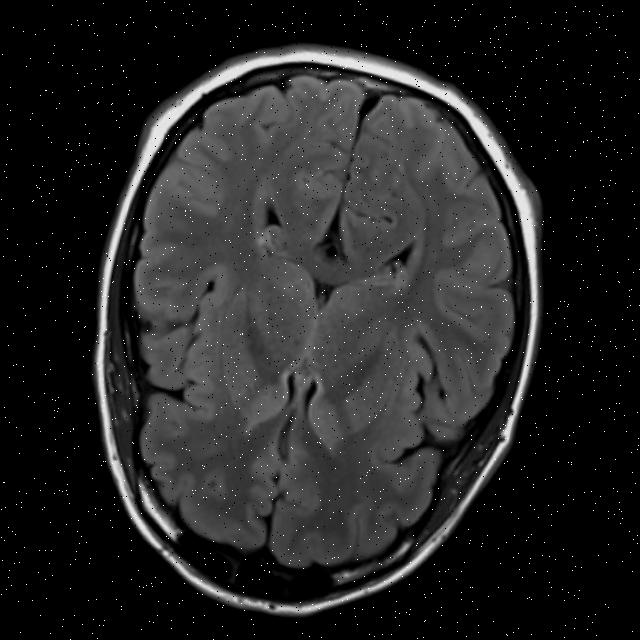NoTumor: (63, 27, 568, 619)
